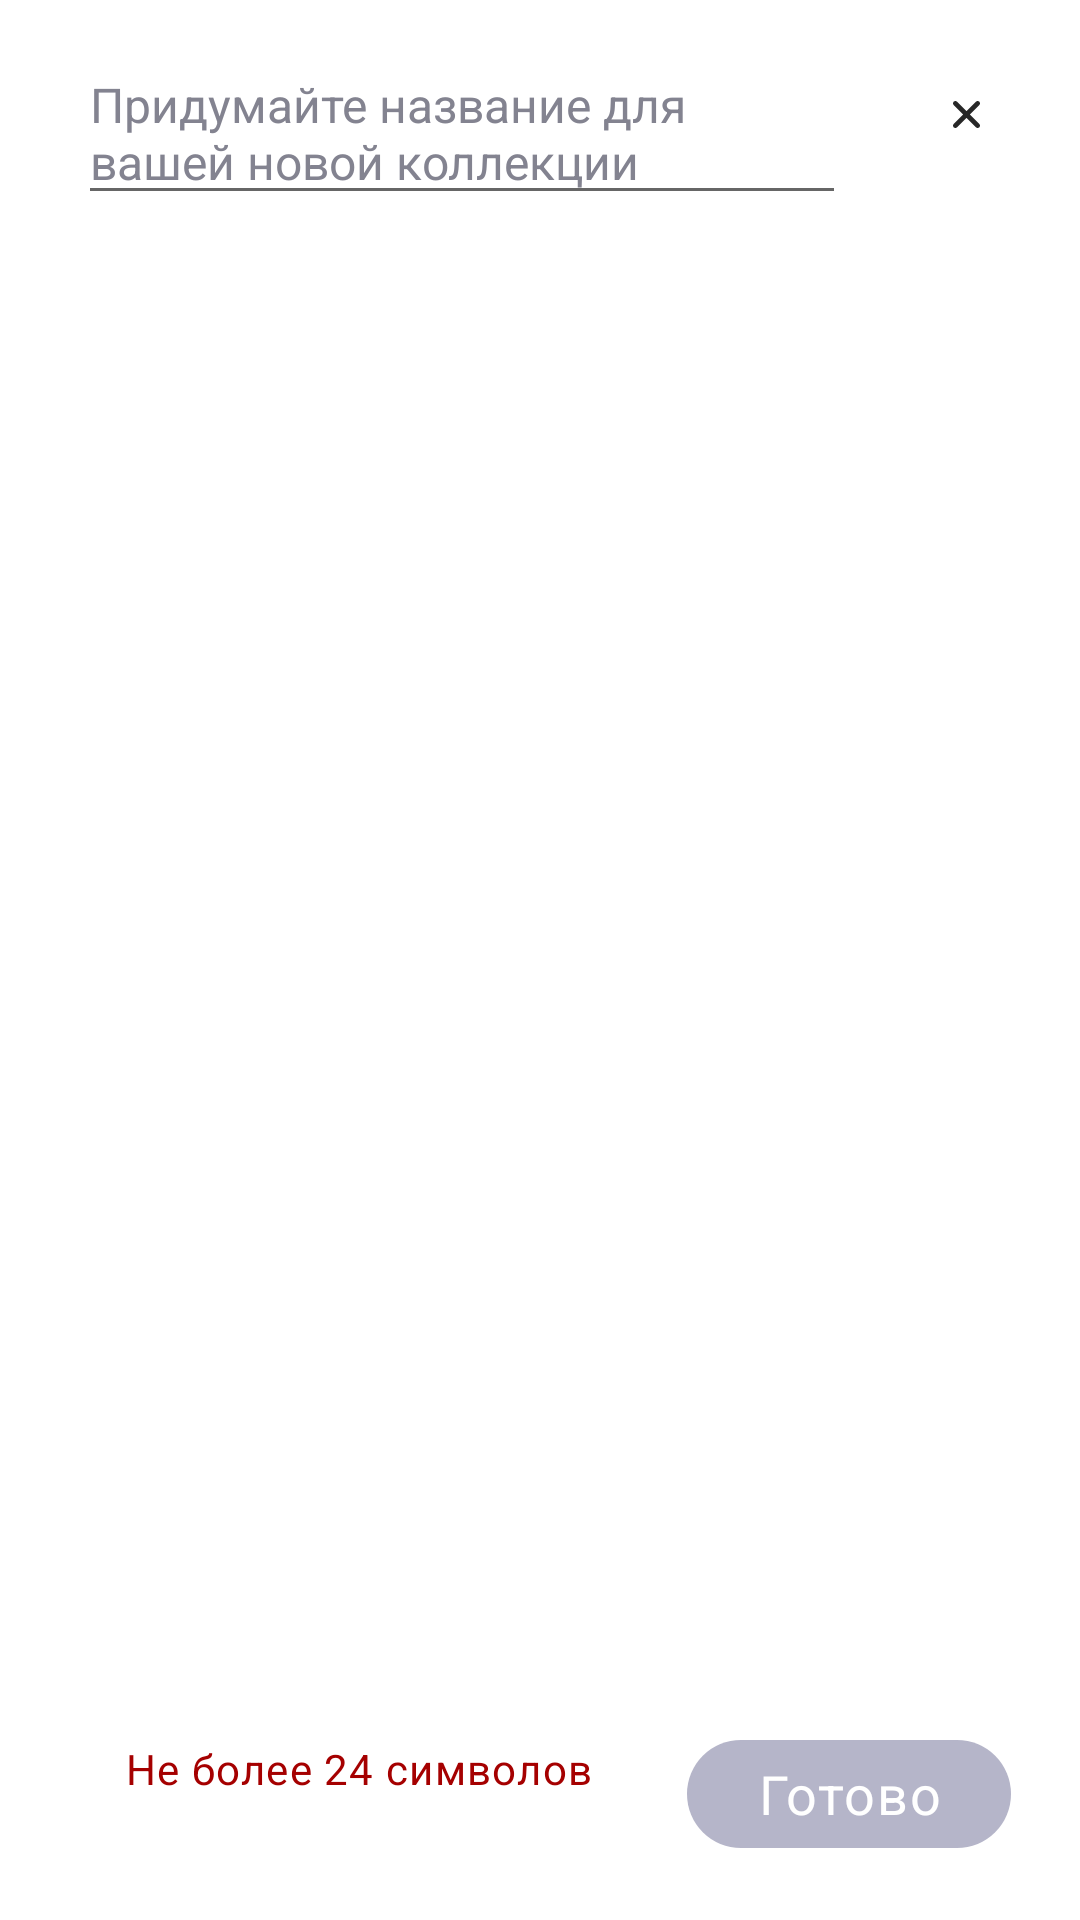

Where icons sit on this 1080 x 1920 app screen, as box(x1, y1, x2, y2):
Закрыть: box(953, 101, 980, 128)
